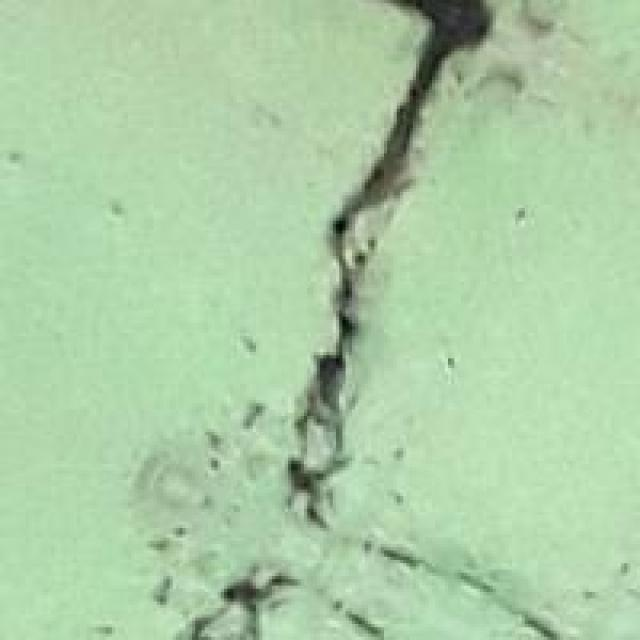Crack: (301, 0, 512, 608)
